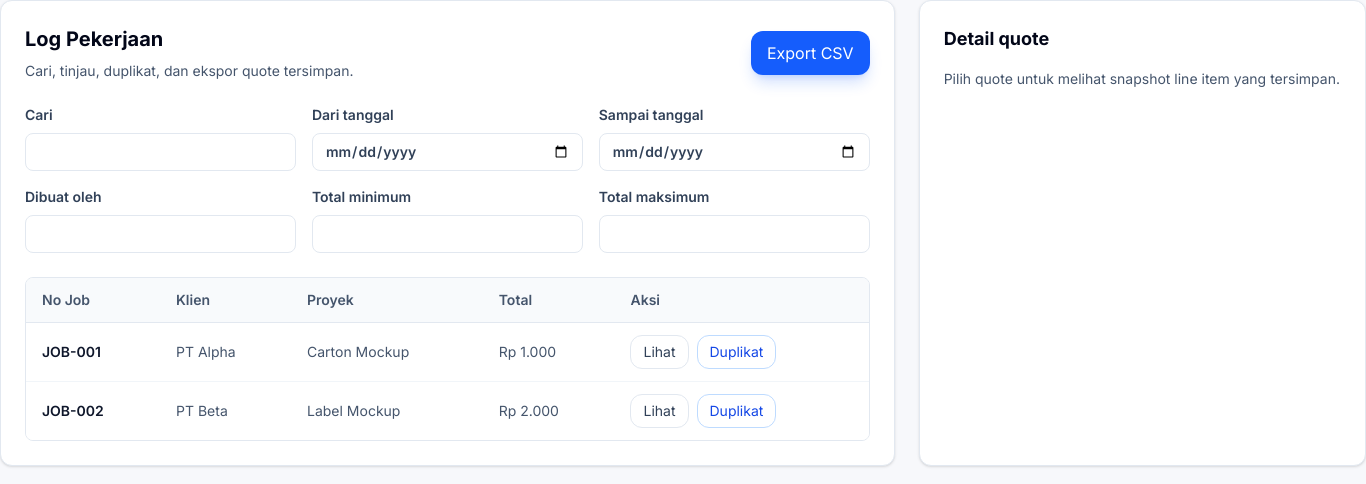
it: JobLogView › shows quote detail
Click the button with aria-label "Lihat JOB-001".
click(660, 352)  # box [630,335,688,369]
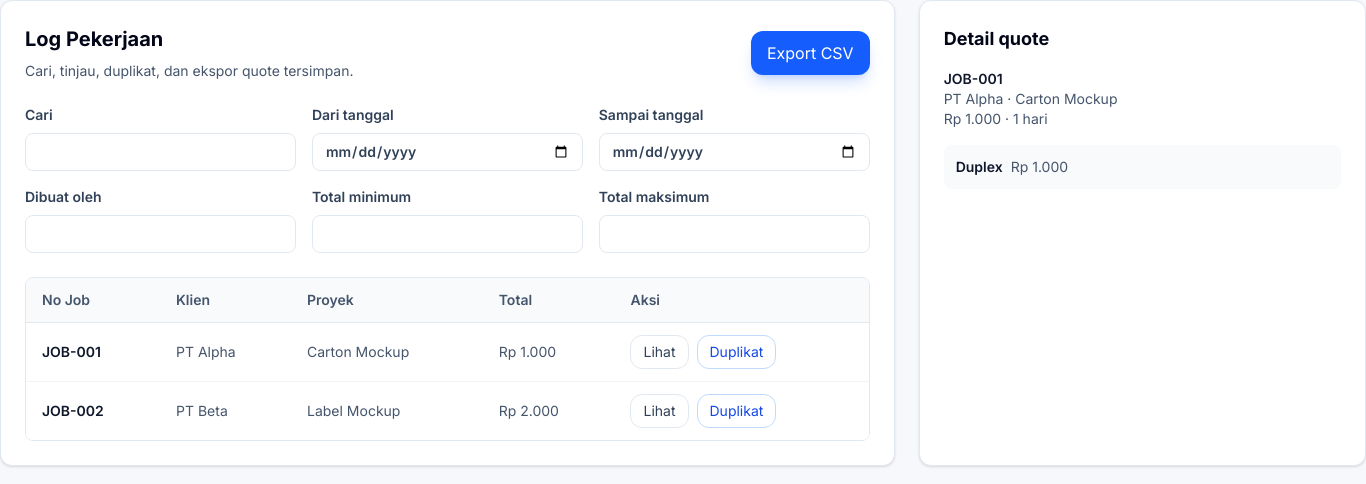
Check: the heading "Detail quote" is shown, box [944,28,1049,49]
Check: the text "Duplex" is shown, box [956,158,1003,175]
